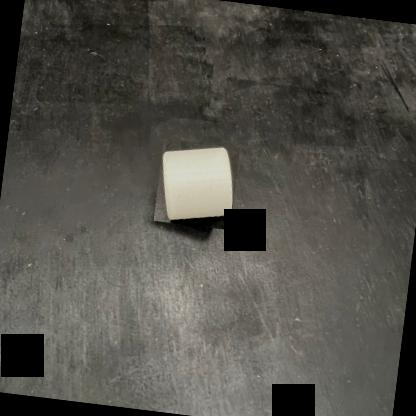white cylinder: (153, 138, 240, 230)
